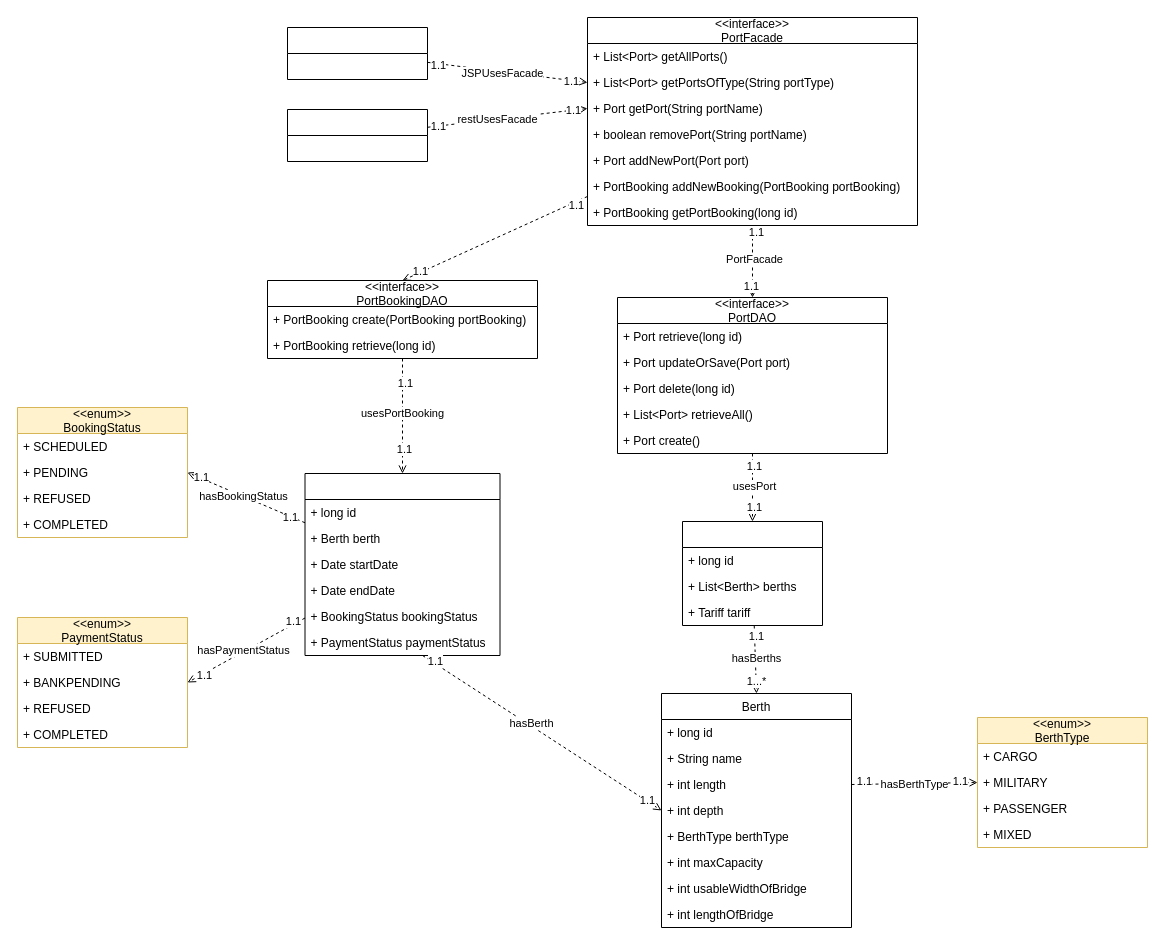
The diagram is 1165 pixels wide and 948 high, and some of its shapes have lost their labels. Each missing label, with the box of its shape:
JSPPages: (286, 26, 428, 80)
Port: (682, 520, 822, 626)
PortBooking: (304, 472, 500, 656)
RESTInterface: (286, 108, 428, 162)
